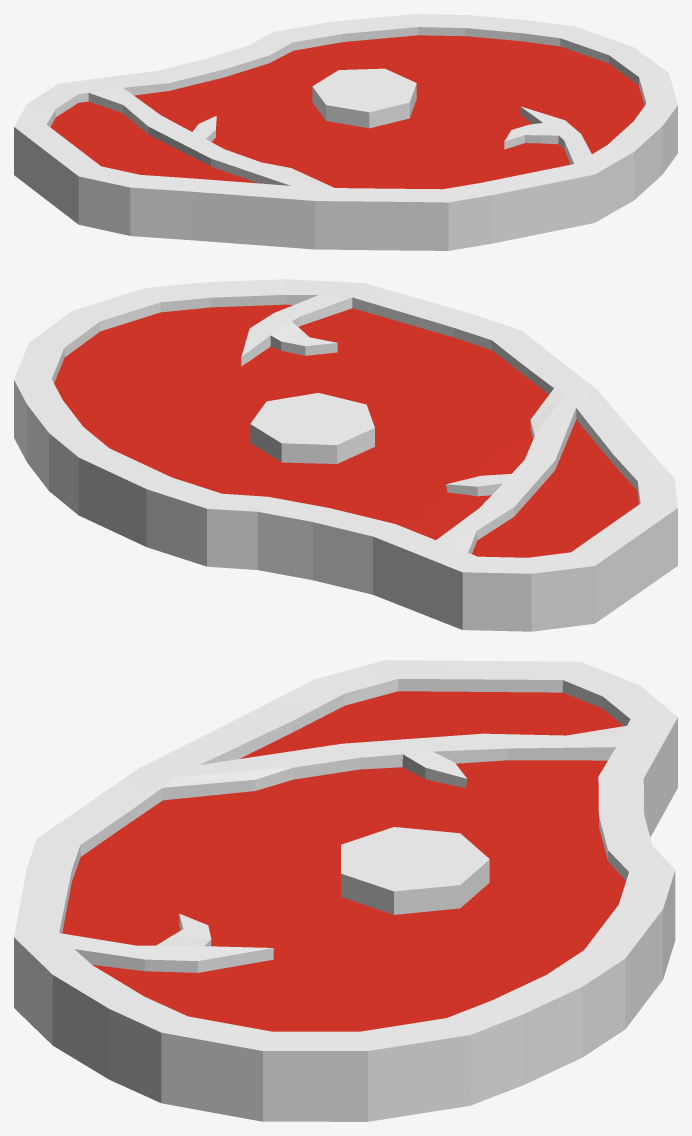
The model's file is _meat.fbx.
The picture shows the model from 3 angles, top to bottom: view 1: azimuth 30°, elevation 25°; view 2: azimuth 150°, elevation 25°; view 3: azimuth 270°, elevation 25°; orthographic projection. The views are drawn at different scales.
Parts seen in each view (by area): view 1: Plane; view 2: Plane; view 3: Plane.
Boxes of the visible parts, bbox=[...] form: Plane: bbox=[14, 14, 677, 250]; Plane: bbox=[14, 279, 677, 631]; Plane: bbox=[14, 660, 677, 1121].
Size of the model in its own units: 320 by 35.76 by 229.
